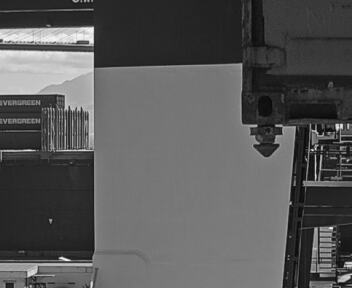twist_lock_2: (138, 168, 205, 207)
